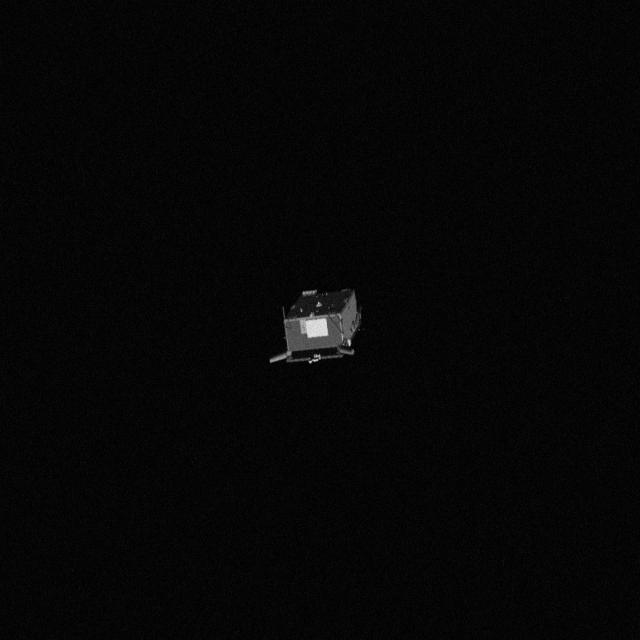medium_debris: (270, 273, 373, 374)
